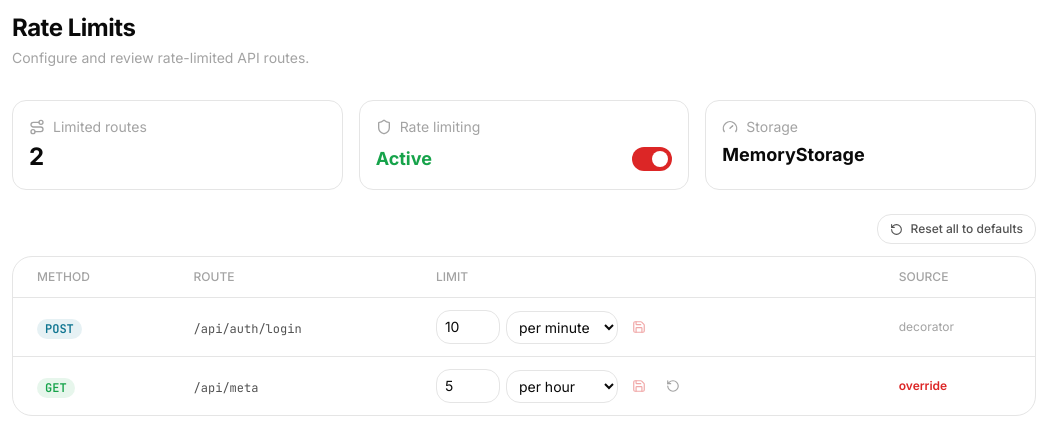
Scenario: AdminRateLimitsPage › does not mark the row dirty when the value is unchanged
This screenshot has width=1048, height=433.
Select "per hour" in the dropdown named "Limit period for /api/auth/login" at (562, 327), box [506, 310, 618, 344]
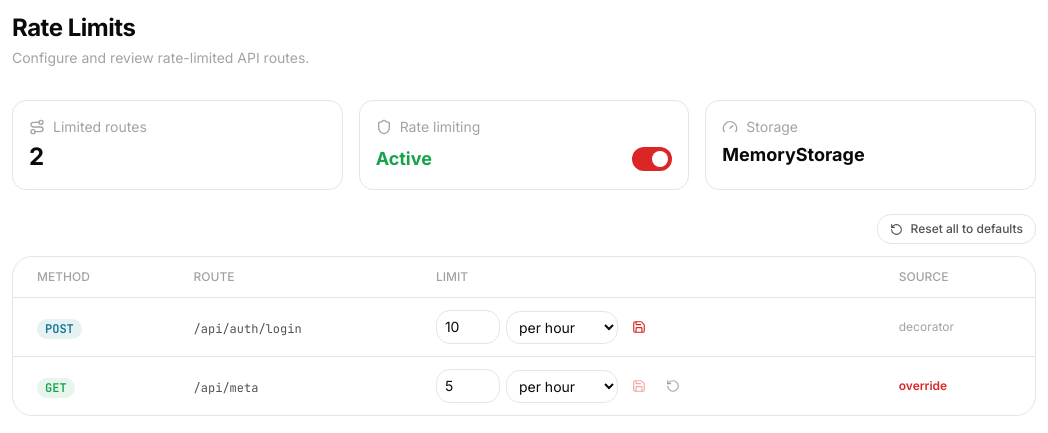
Select "per minute" in the dropdown named "Limit period for /api/auth/login" at (562, 327), box [506, 310, 618, 344]
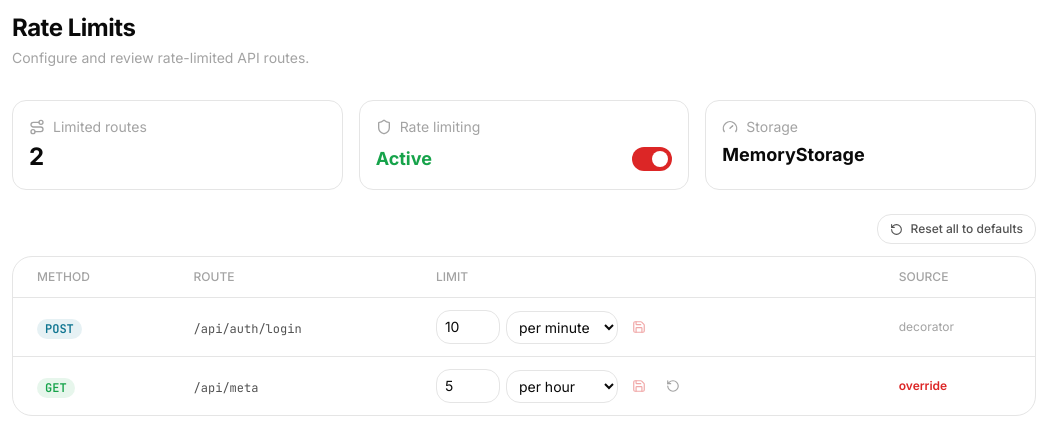
Now the button named "Save limit for /api/auth/login" is disabled, box [626, 314, 652, 340]
